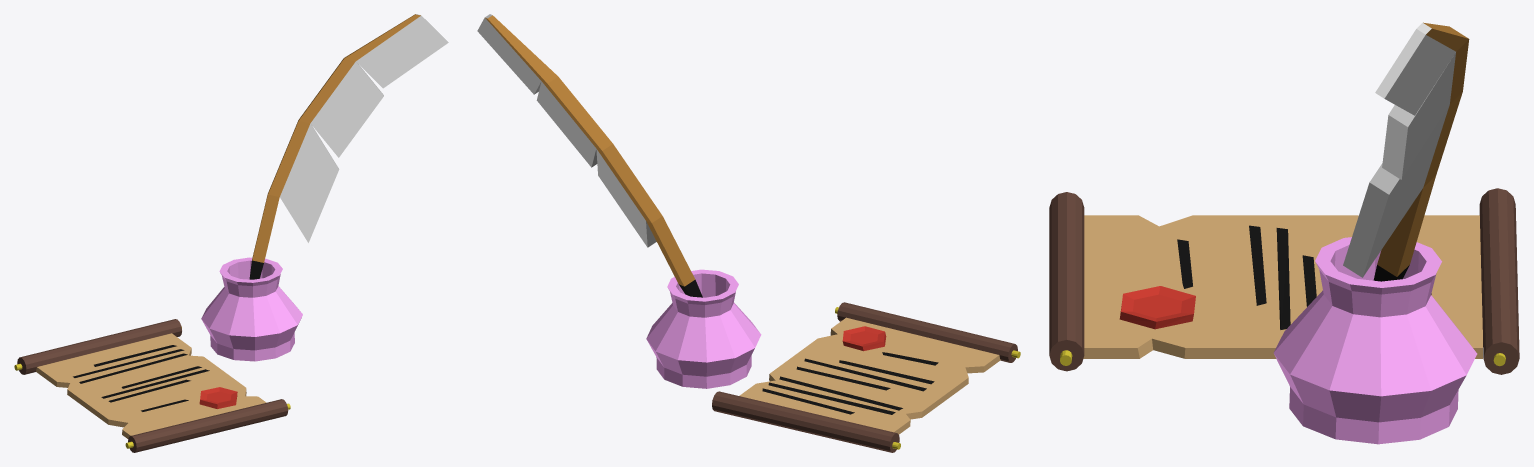
3 views of the same model, side by side, from view 1: azimuth 30°, elevation 25°; view 2: azimuth 150°, elevation 25°; view 3: azimuth 270°, elevation 25° (orthographic). The views are drawn at different scales.
Parts seen in each view (by area): view 1: node_MeshObject-28157056-PolyPaper19, node_MeshObject947176000-PolyGem25; view 2: node_MeshObject-28157056-PolyPaper19, node_MeshObject947176000-PolyGem25; view 3: node_MeshObject-28157056-PolyPaper19, node_MeshObject947176000-PolyGem25.
Boxes of the visible parts, x1,y1,x2,y2 form: node_MeshObject-28157056-PolyPaper19: (14,14,448,452); node_MeshObject947176000-PolyGem25: (201,257,302,361); node_MeshObject-28157056-PolyPaper19: (477,14,1020,452); node_MeshObject947176000-PolyGem25: (646,269,761,388); node_MeshObject-28157056-PolyPaper19: (1049,22,1519,374); node_MeshObject947176000-PolyGem25: (1273,237,1477,444).
Size of the model in its own units: 0.772 by 0.5171 by 0.3898.
